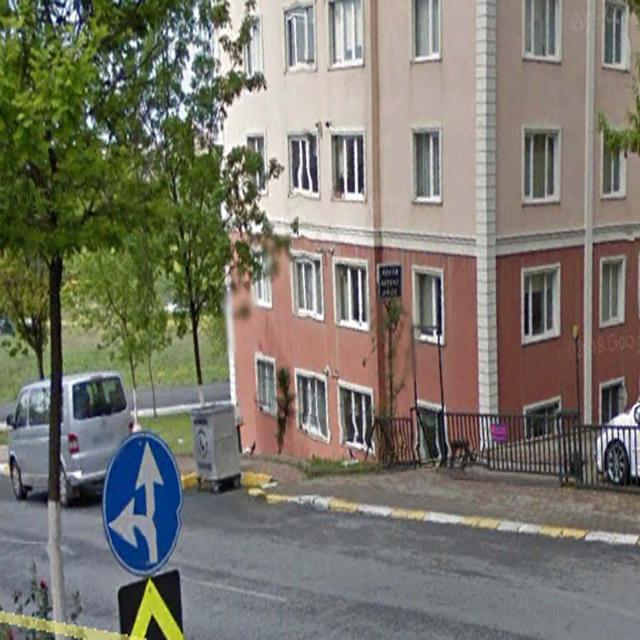ilerisol: (103, 430, 182, 571)
